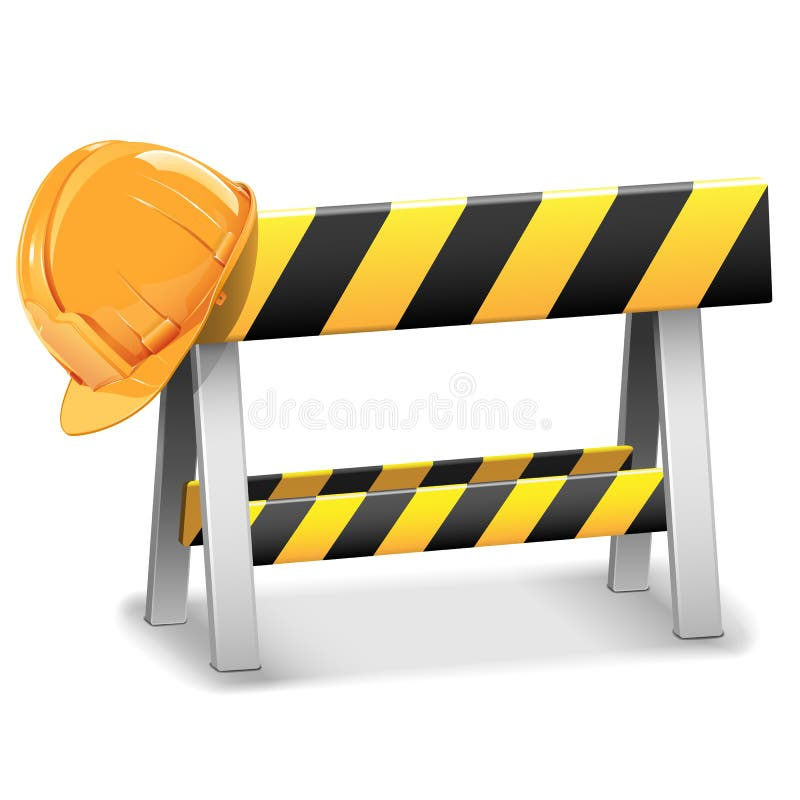Barrier: (14, 127, 781, 670)
